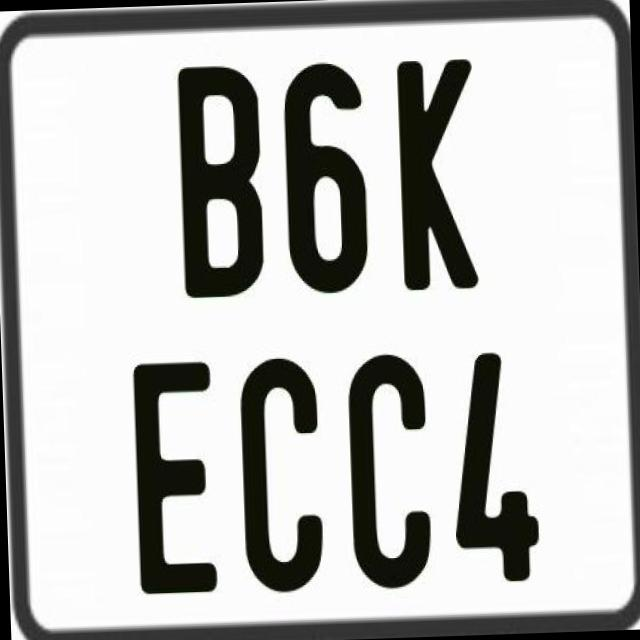4: (448, 351, 540, 591)
6: (282, 59, 374, 292)
B: (177, 65, 269, 308)
C: (342, 348, 437, 594), (236, 356, 328, 596)
E: (132, 360, 223, 600)
K: (395, 54, 479, 288)
